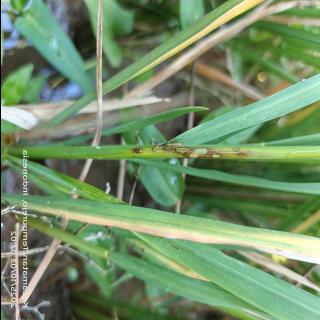Busuk-Pelepah: (126, 144, 247, 160)
